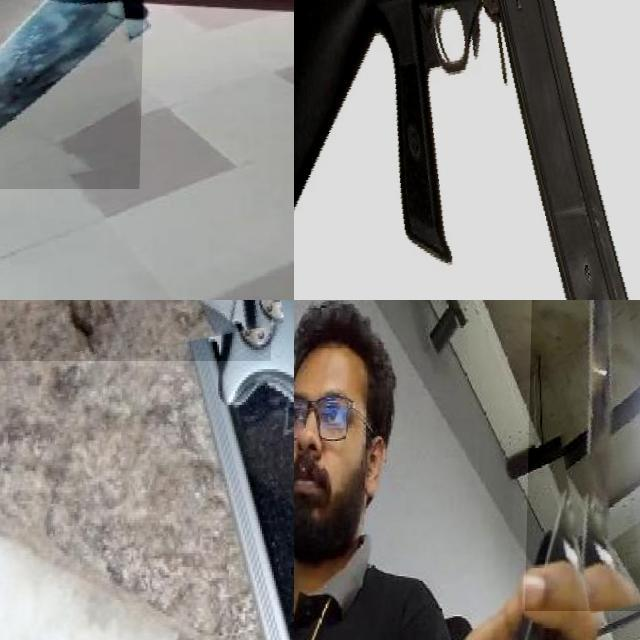-: (0, 300, 277, 441), (527, 300, 640, 611), (0, 0, 145, 189)
gun-knife-thesis - v11 Yolov5 augmented: (294, 0, 640, 300)
